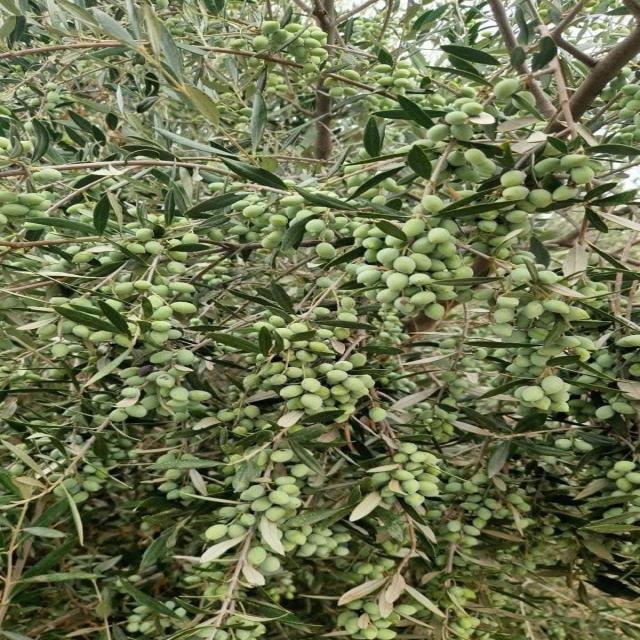Healthy: (494, 78, 519, 97), (385, 272, 408, 292), (402, 218, 425, 237), (529, 189, 552, 208), (392, 256, 416, 274), (500, 170, 525, 187), (410, 290, 436, 306), (541, 376, 564, 394), (427, 124, 450, 142), (571, 166, 594, 184), (542, 300, 569, 314), (502, 186, 529, 200), (428, 228, 451, 244), (205, 524, 228, 540), (247, 546, 266, 565), (315, 242, 336, 259), (410, 253, 431, 270), (523, 301, 544, 318), (377, 248, 399, 264), (300, 394, 323, 409), (425, 302, 444, 320), (264, 506, 285, 522), (0, 204, 28, 216), (522, 386, 544, 401), (124, 404, 147, 418), (445, 110, 468, 124), (343, 376, 364, 391), (285, 530, 306, 545), (177, 349, 195, 366), (301, 377, 321, 392), (251, 497, 271, 512), (279, 385, 302, 398), (168, 282, 195, 293), (268, 491, 290, 504), (170, 302, 196, 313), (368, 407, 387, 422), (305, 219, 325, 233), (170, 386, 188, 401), (144, 240, 163, 254), (402, 479, 419, 494), (596, 406, 613, 420), (51, 343, 68, 357), (126, 242, 145, 254), (167, 261, 185, 273), (392, 470, 413, 480), (151, 321, 171, 331)
